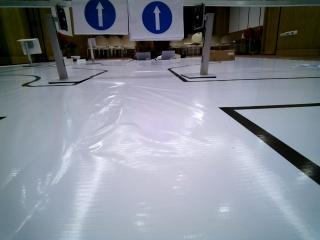straight: (128, 0, 184, 41), (71, 0, 131, 36)
